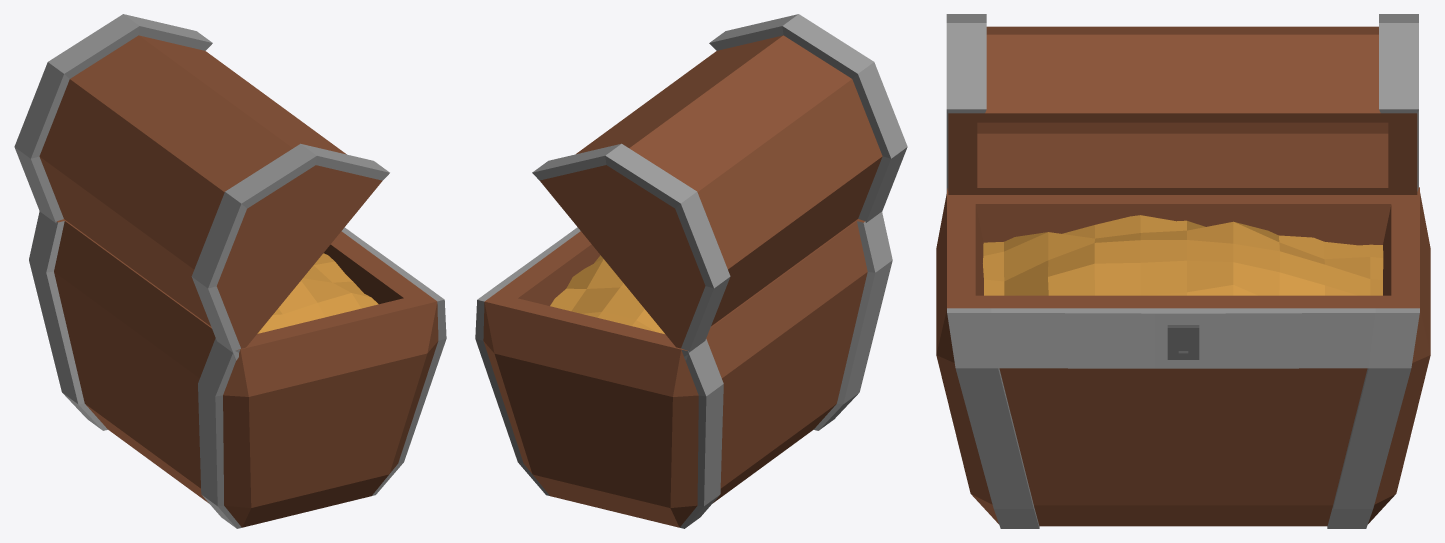
File: Chest_gold.glb
The picture shows the model from 3 angles, left to right: view 1: azimuth 30°, elevation 25°; view 2: azimuth 150°, elevation 25°; view 3: azimuth 270°, elevation 25°; orthographic projection. The views are drawn at different scales.
Visible parts, largest first — view 1: ChestBottom, ChestTop; view 2: ChestBottom, ChestTop; view 3: ChestBottom, ChestTop.
Part boxes in pixels (left/top/right/bottom): ChestBottom: left=29, top=211, right=446, bottom=528; ChestTop: left=14, top=14, right=389, bottom=360; ChestBottom: left=475, top=212, right=892, bottom=528; ChestTop: left=532, top=14, right=907, bottom=360; ChestBottom: left=936, top=187, right=1430, bottom=528; ChestTop: left=946, top=14, right=1418, bottom=194.
Bounding box in the file's own units: 0.783 × 1.15 × 1.12.
